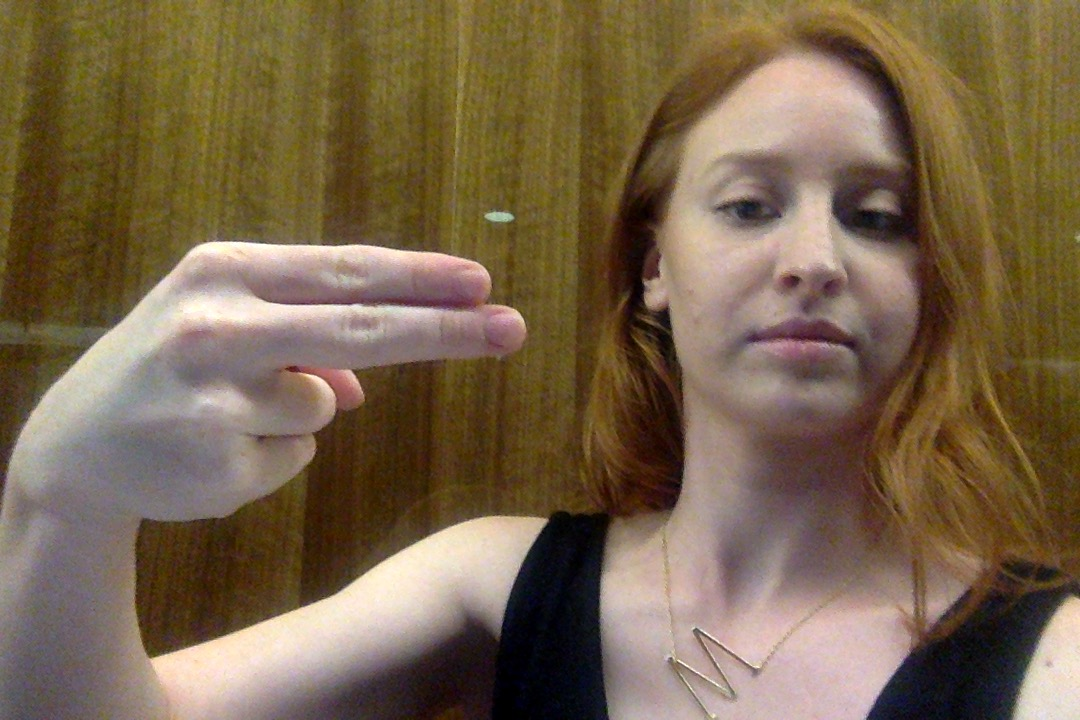h: (21, 232, 537, 537)
